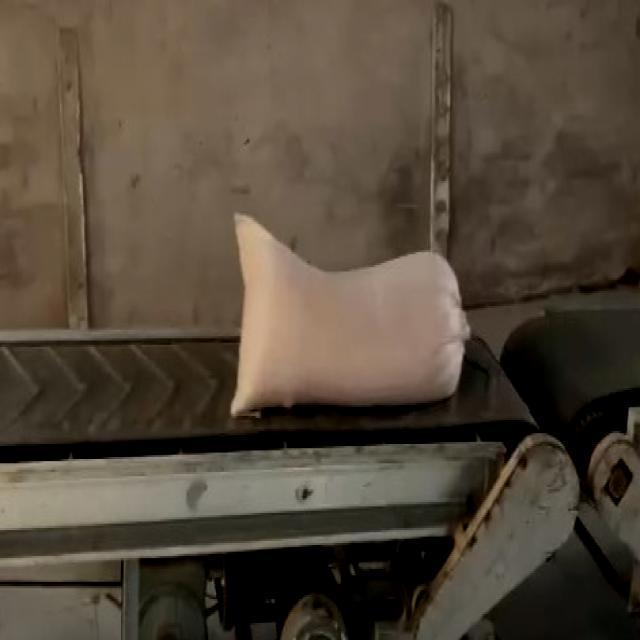gunny_bag: (231, 213, 470, 417)
